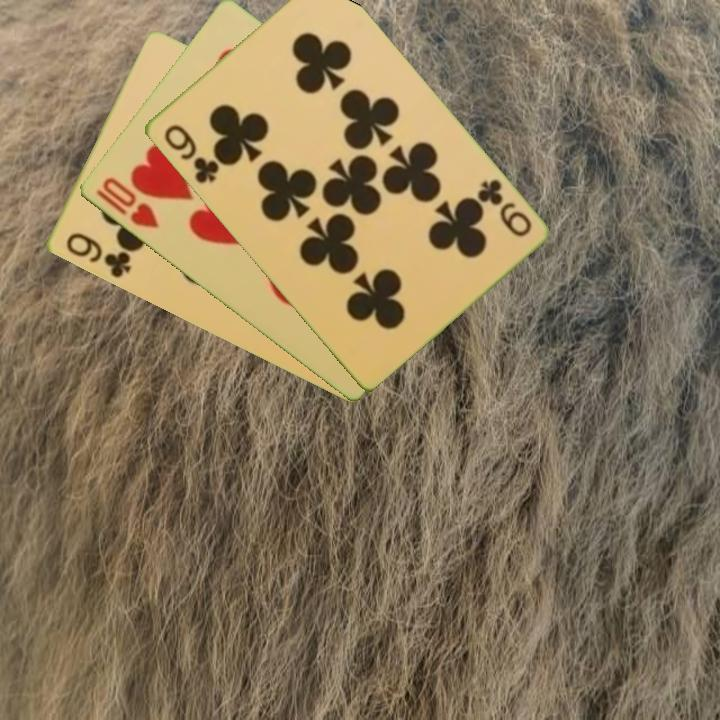10h: (98, 174, 162, 232)
9c: (159, 121, 222, 187), (472, 175, 534, 240), (62, 229, 134, 282)
